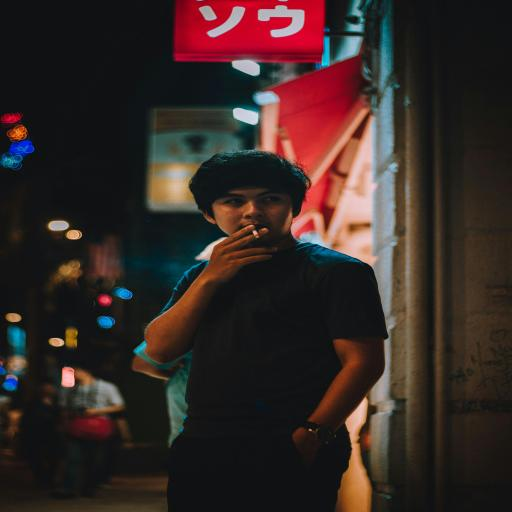terdeteksi merokok: (205, 174, 297, 258)
